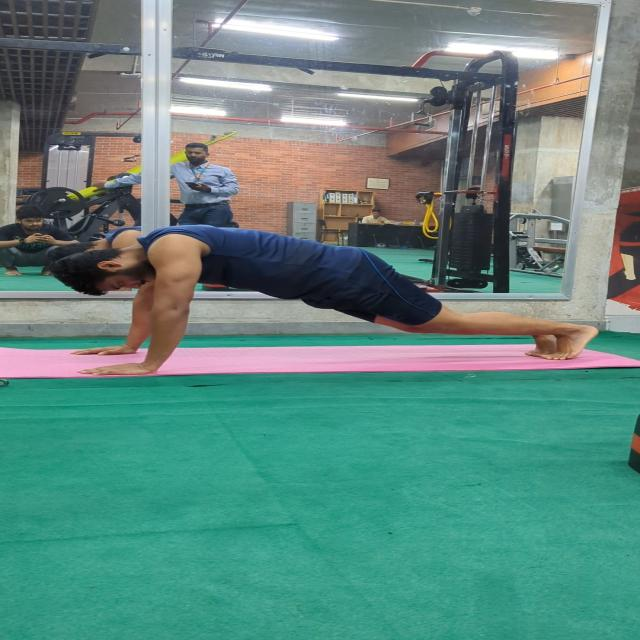Normal_MountainClimbers: (36, 200, 608, 379)
